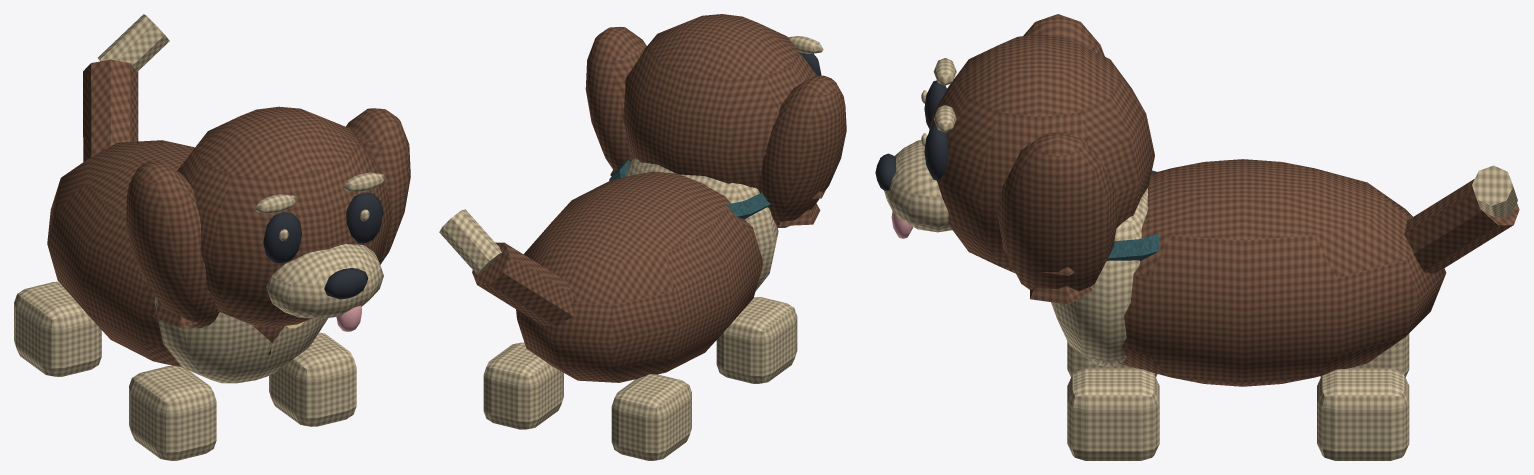
The model's file is pet_dog.glb.
3 renders of one model, left to right at view 1: azimuth 30°, elevation 25°; view 2: azimuth 150°, elevation 25°; view 3: azimuth 270°, elevation 25°, orthographic. The views are drawn at different scales.
Visible parts, largest first — view 1: head, body, floppy_ear, chest, paw, paw.001, paw.002, muzzle, tail, floppy_ear.001, tail_tip, eye (+6 smaller); view 2: body, head, floppy_ear, paw.001, paw, paw.003, floppy_ear.001, tail, chest, tail_tip, collar, eyebrow; view 3: body, head, floppy_ear.001, paw.002, paw.003, chest, tail, muzzle, tail_tip, floppy_ear, eye.001, collar (+3 smaller).
Part boxes in pixels (left/top/right/bottom): head: left=177, top=106, right=392, bottom=327; body: left=47, top=140, right=284, bottom=366; floppy_ear: left=125, top=161, right=219, bottom=327; chest: left=154, top=296, right=328, bottom=383; paw: left=129, top=365, right=216, bottom=460; paw.001: left=14, top=281, right=101, bottom=376; paw.002: left=269, top=332, right=356, bottom=426; muzzle: left=266, top=243, right=383, bottom=318; tail: left=83, top=59, right=138, bottom=161; floppy_ear.001: left=346, top=108, right=410, bottom=264; tail_tip: left=98, top=14, right=169, bottom=71; eye: left=263, top=212, right=301, bottom=263; body: left=516, top=171, right=762, bottom=382; head: left=623, top=14, right=816, bottom=188; floppy_ear: left=758, top=75, right=846, bottom=227; paw.001: left=611, top=374, right=691, bottom=460; paw: left=716, top=297, right=797, bottom=383; paw.003: left=483, top=342, right=563, bottom=429; floppy_ear.001: left=585, top=26, right=646, bottom=171; tail: left=472, top=242, right=574, bottom=326; chest: left=625, top=158, right=778, bottom=291; tail_tip: left=439, top=209, right=501, bottom=274; collar: left=609, top=160, right=770, bottom=219; eyebrow: left=788, top=36, right=823, bottom=53; body: left=1120, top=159, right=1446, bottom=386; head: left=929, top=34, right=1154, bottom=273; floppy_ear.001: left=998, top=132, right=1117, bottom=291; paw.002: left=1067, top=368, right=1159, bottom=460; paw.003: left=1317, top=368, right=1409, bottom=460; chest: left=1051, top=188, right=1148, bottom=367; tail: left=1404, top=179, right=1519, bottom=273; muzzle: left=884, top=140, right=952, bottom=232; tail_tip: left=1472, top=165, right=1517, bottom=218; floppy_ear: left=1023, top=14, right=1104, bottom=56; eye.001: left=924, top=123, right=948, bottom=180; collar: left=1106, top=170, right=1159, bottom=261.
Size of the model in its own units: 0.7312 by 0.88 by 1.39.
Materials: 6 (3 with a texture image).
